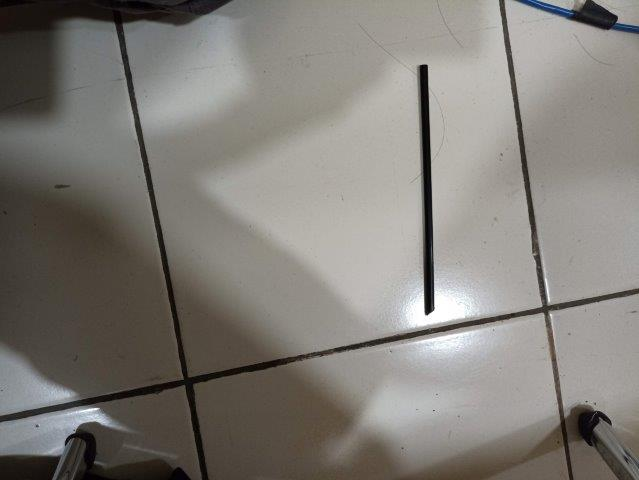sedotan: (419, 64, 435, 315)
